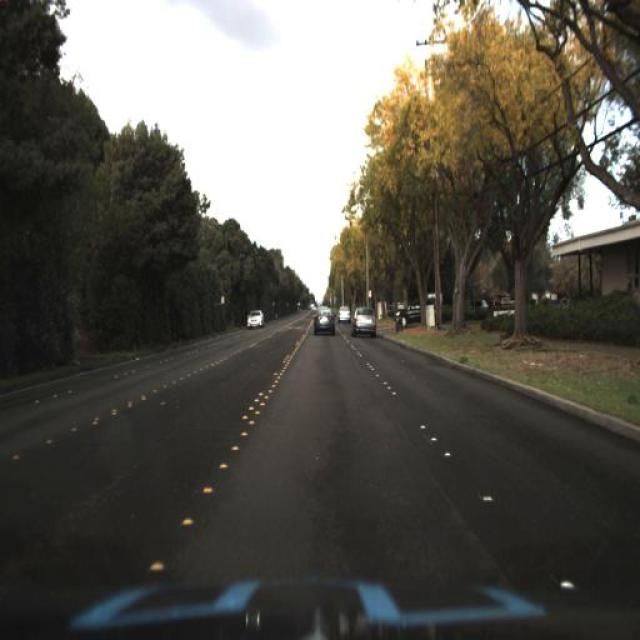car: (390, 292, 436, 328), (346, 299, 382, 341), (306, 301, 340, 338), (245, 305, 267, 335), (243, 308, 265, 332), (338, 300, 354, 324)
